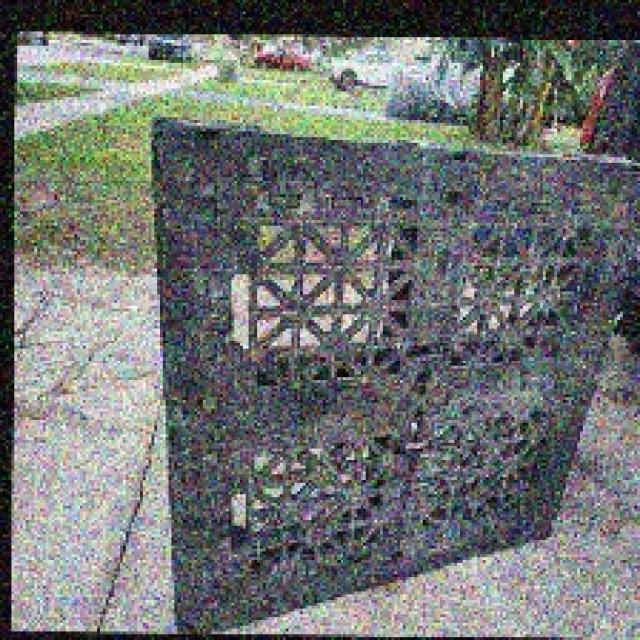igps: (143, 108, 640, 640)
